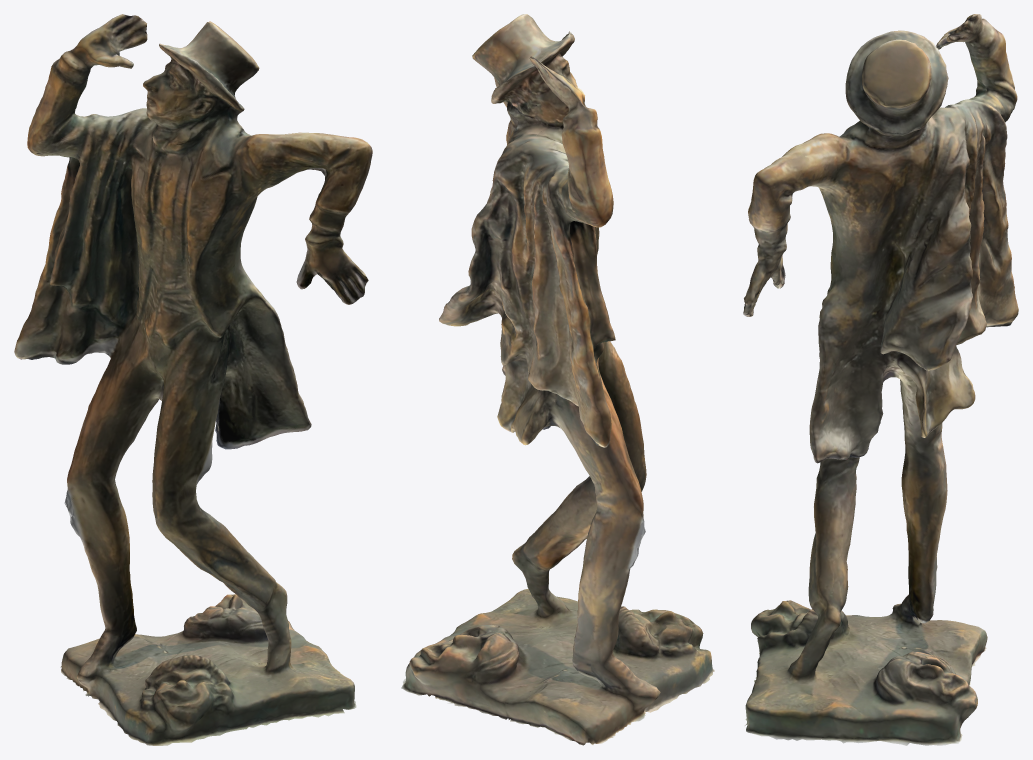
3 renders of one model, left to right at view 1: azimuth 30°, elevation 25°; view 2: azimuth 150°, elevation 25°; view 3: azimuth 270°, elevation 25°, orthographic. The views are drawn at different scales.
Parts seen in each view (by area): view 1: Object_4; view 2: Object_4; view 3: Object_4.
Boxes of the visible parts, left/top/right/bottom form: Object_4: left=14, top=14, right=372, bottom=745; Object_4: left=401, top=14, right=714, bottom=745; Object_4: left=743, top=14, right=1018, bottom=745.
Bounding box in the file's own units: 1.31 × 3.44 × 1.3.
Materials: 1 (1 with a texture image).
